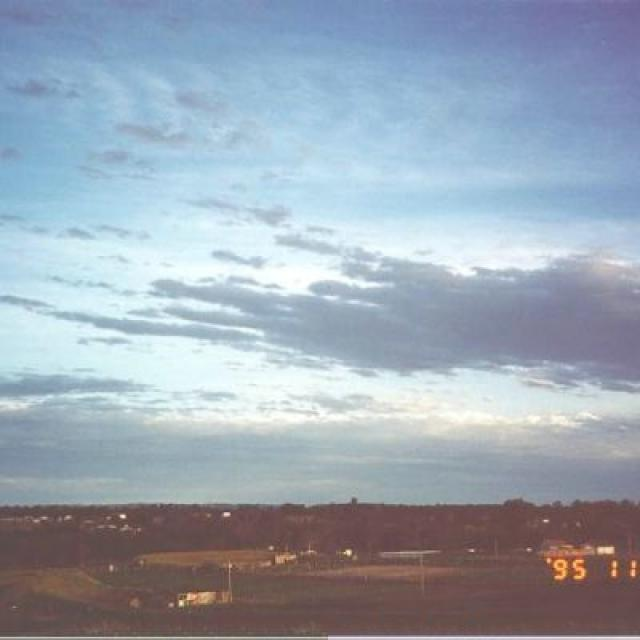Cc: (1, 43, 640, 434)
